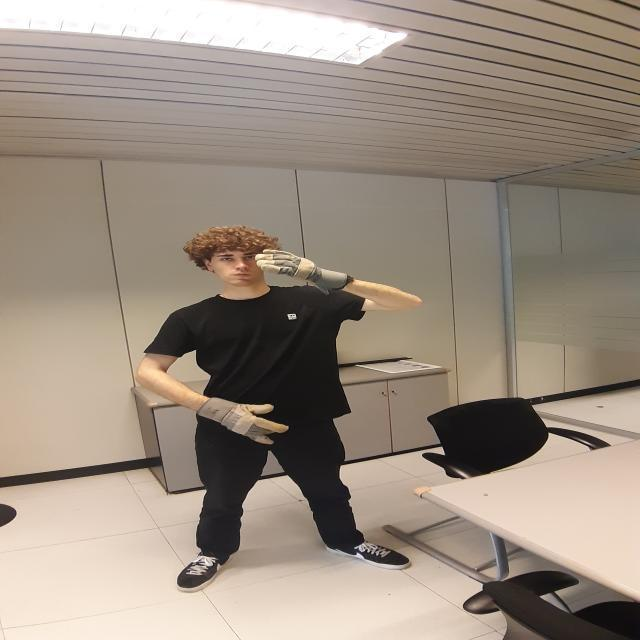gloved_hand: (196, 394, 290, 447), (251, 250, 352, 292)
